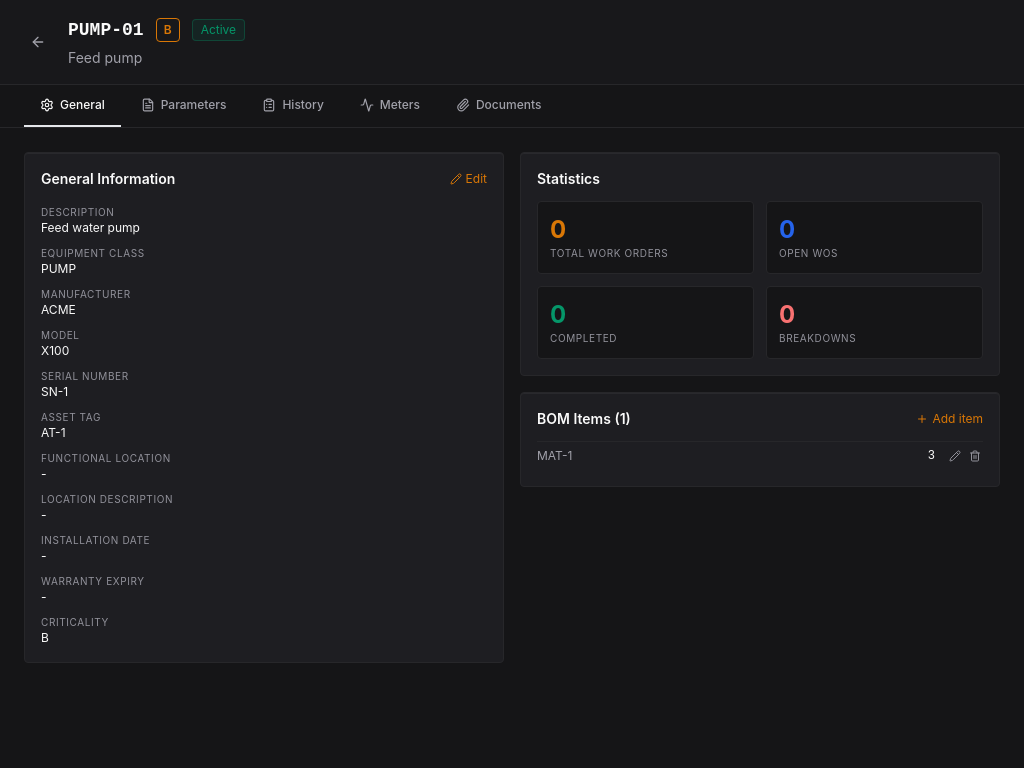
Test: EquipmentDetailPage BOM editing (SOW 3.1.2) › removes a BOM item
Click the button named "remove bom mat-1". click: (975, 456)
box: [967,448,983,464]
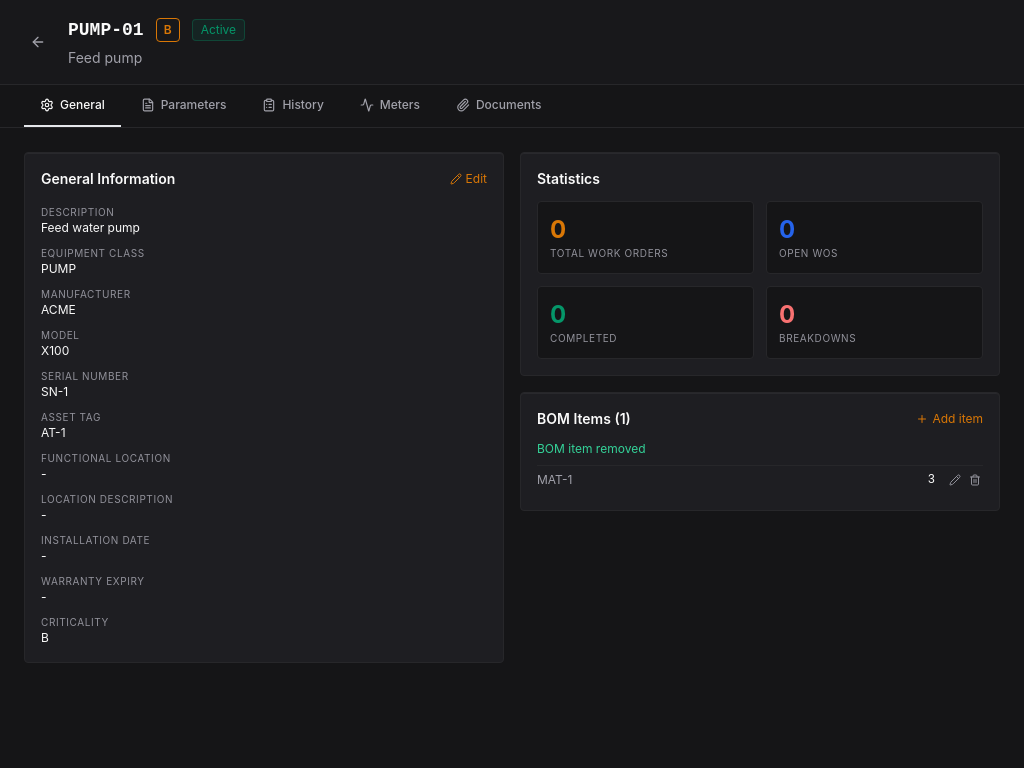
Now the text "BOM item removed" is shown, box [537,441,646,456]
